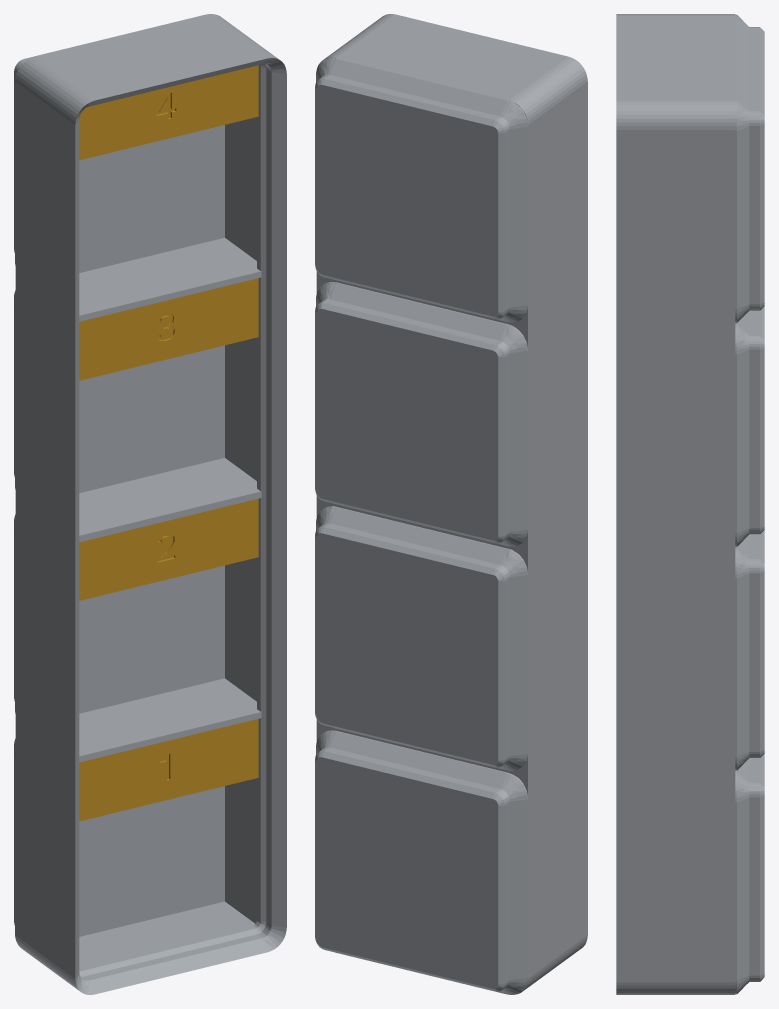
File: hero-engraved-tray.glb
3 renders of one model, left to right at view 1: azimuth 30°, elevation 25°; view 2: azimuth 150°, elevation 25°; view 3: azimuth 270°, elevation 25°, orthographic.
Size of the model in its own units: 41.49 by 168 by 25.28.
